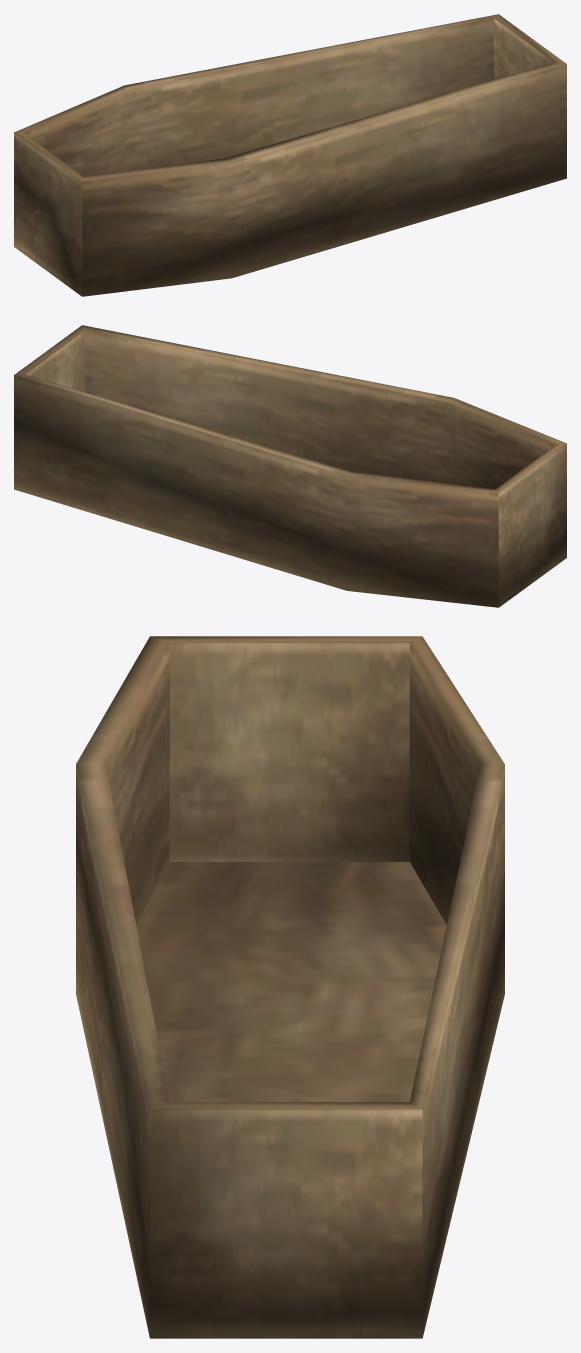
File: coffin.glb
The picture shows the model from 3 angles, top to bottom: view 1: azimuth 30°, elevation 25°; view 2: azimuth 150°, elevation 25°; view 3: azimuth 270°, elevation 25°; orthographic projection. The views are drawn at different scales.
Bounding box in the file's own units: 2.77 × 0.625 × 1.06.
Materials: 1 (1 with a texture image).
